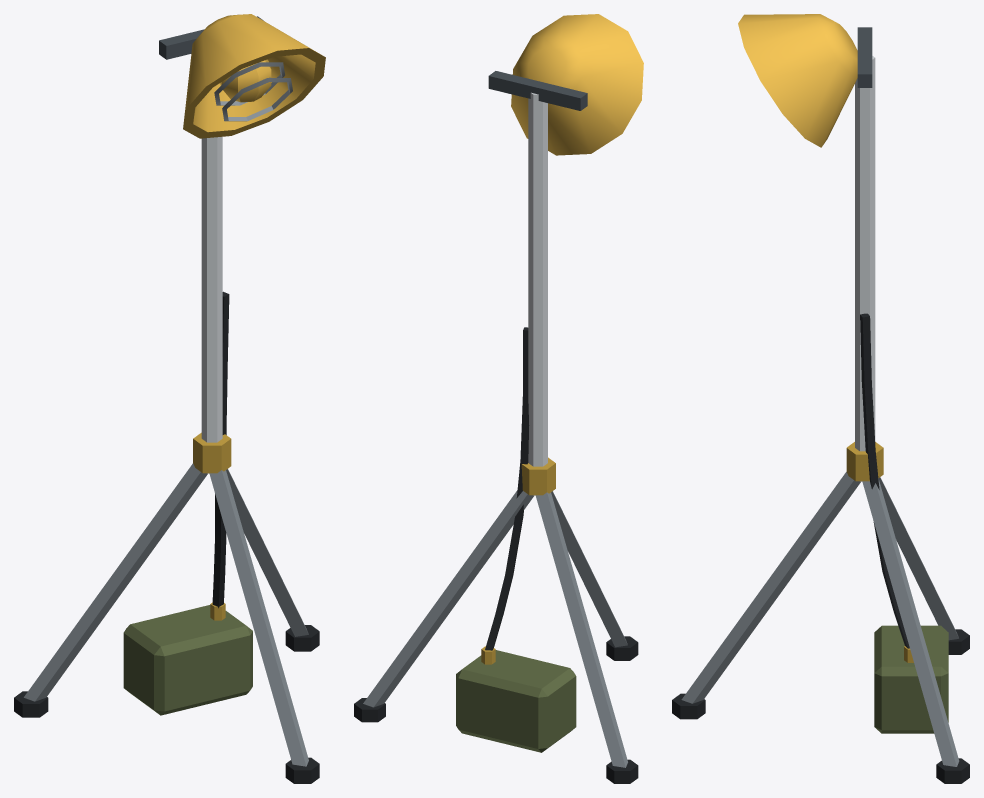
Rendered from Prop_Lamp.fbx.
3 views of the same model, side by side, from view 1: azimuth 30°, elevation 25°; view 2: azimuth 150°, elevation 25°; view 3: azimuth 270°, elevation 25° (orthographic). The views are drawn at different scales.
Visible parts, largest first — view 1: Lamp, Bulb; view 2: Lamp; view 3: Lamp.
Boxes of the visible parts, x1,y1,x2,y2 form: Lamp: (14, 14, 325, 783); Bulb: (220, 59, 271, 102); Lamp: (354, 14, 643, 783); Lamp: (672, 14, 969, 783).
Size of the model in its own units: 1.8 by 4.14 by 1.61.
